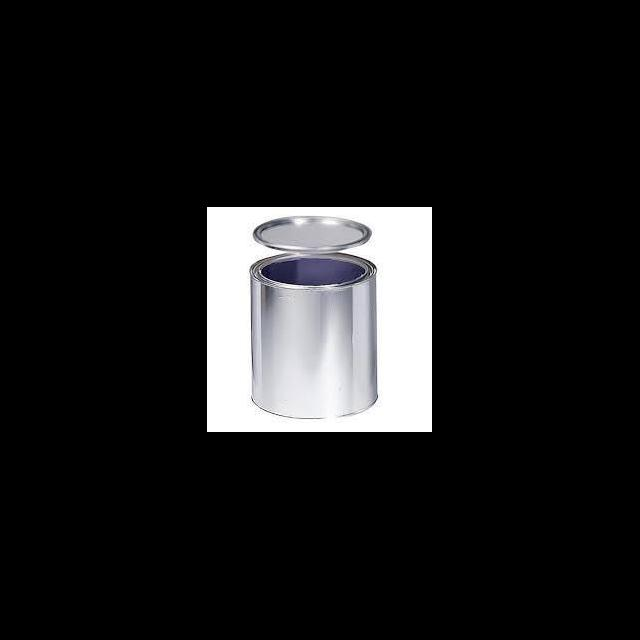metal: (250, 215, 376, 418), (248, 252, 378, 418), (252, 216, 372, 253)
